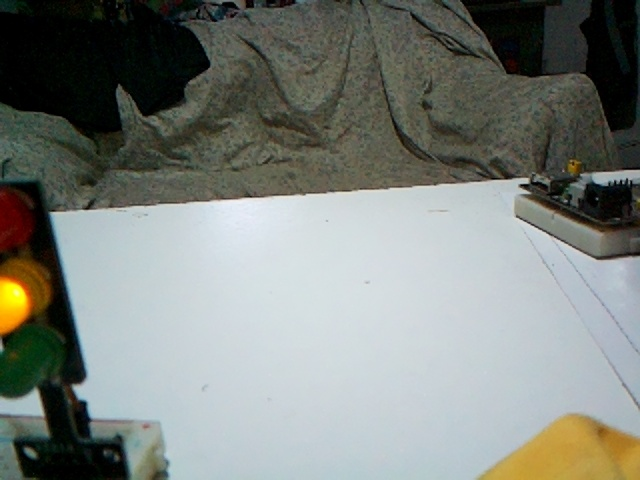traffic_light_yellow: (0, 181, 89, 396)
